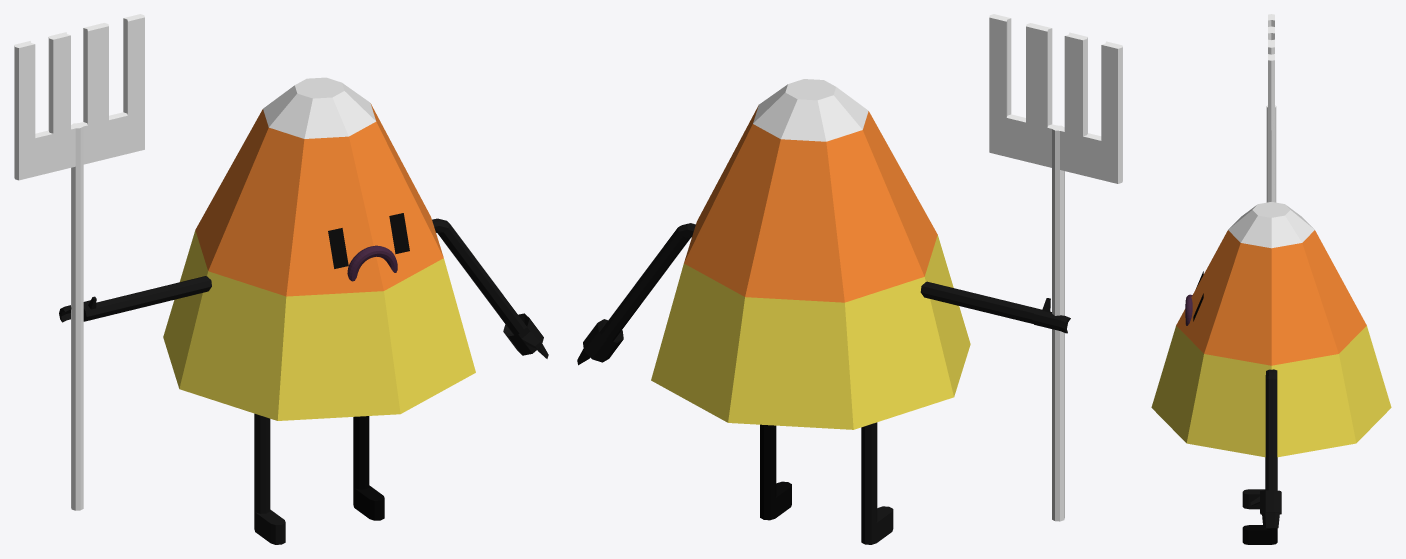
The model's file is bala.fbx.
The picture shows the model from 3 angles, left to right: view 1: azimuth 30°, elevation 25°; view 2: azimuth 150°, elevation 25°; view 3: azimuth 270°, elevation 25°; orthographic projection. The views are drawn at different scales.
Visible parts, largest first — view 1: Cylinder, Cylinder.004, Cylinder.005, Cylinder.001, Cylinder.003, Cylinder.002, Torus; view 2: Cylinder, Cylinder.004, Cylinder.005, Cylinder.003, Cylinder.001, Cylinder.002; view 3: Cylinder, Cylinder.005, Cylinder.004, Cylinder.002, Cylinder.001.
Part boxes in pixels (x1=…): Cylinder: x1=163, y1=77, x2=475, y2=420; Cylinder.004: x1=14, y1=14, x2=144, y2=510; Cylinder.005: x1=432, y1=218, x2=548, y2=358; Cylinder.001: x1=254, y1=413, x2=285, y2=544; Cylinder.003: x1=59, y1=276, x2=211, y2=322; Cylinder.002: x1=353, y1=416, x2=384, y2=520; Torus: x1=347, y1=245, x2=397, y2=281; Cylinder: x1=651, y1=79, x2=970, y2=429; Cylinder.004: x1=989, y1=14, x2=1122, y2=521; Cylinder.005: x1=577, y1=223, x2=695, y2=365; Cylinder.003: x1=920, y1=281, x2=1070, y2=333; Cylinder.001: x1=861, y1=422, x2=893, y2=544; Cylinder.002: x1=760, y1=424, x2=791, y2=520; Cylinder: x1=1151, y1=202, x2=1391, y2=457; Cylinder.005: x1=1250, y1=369, x2=1281, y2=528; Cylinder.004: x1=1266, y1=14, x2=1276, y2=202; Cylinder.002: x1=1242, y1=457, x2=1277, y2=544; Cylinder.001: x1=1242, y1=489, x2=1265, y2=509.
Size of the model in its own units: 345 by 338 by 182.
